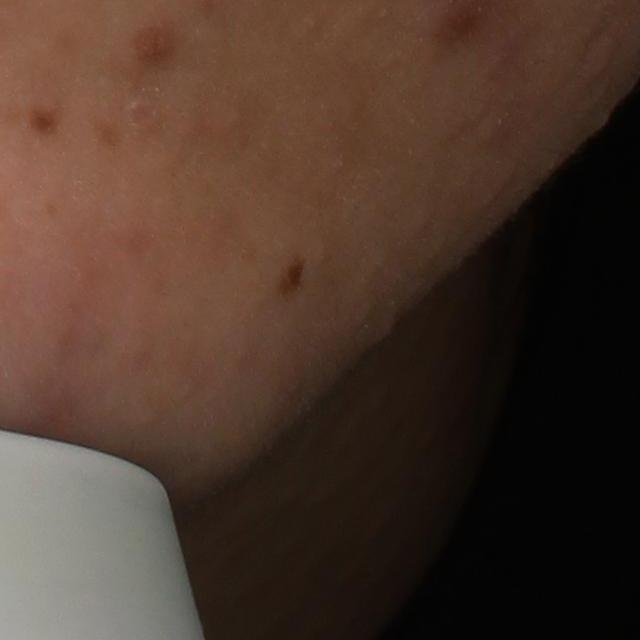nevus: (23, 99, 63, 137), (272, 254, 306, 298)
